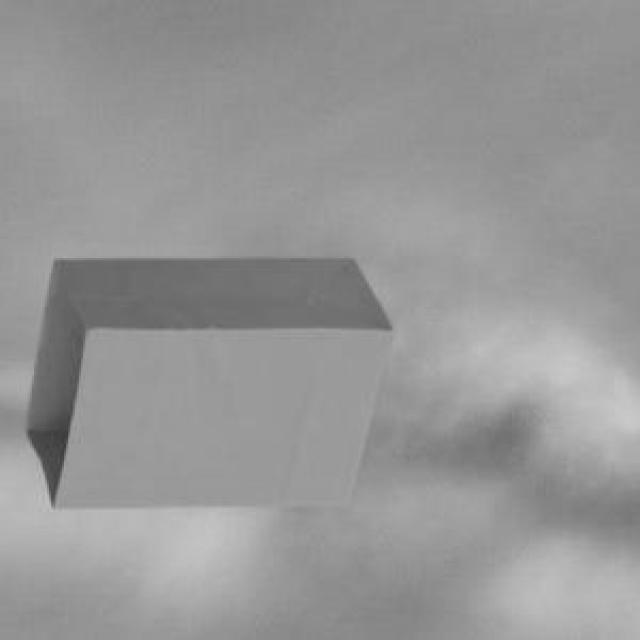paper: (24, 254, 388, 504)
